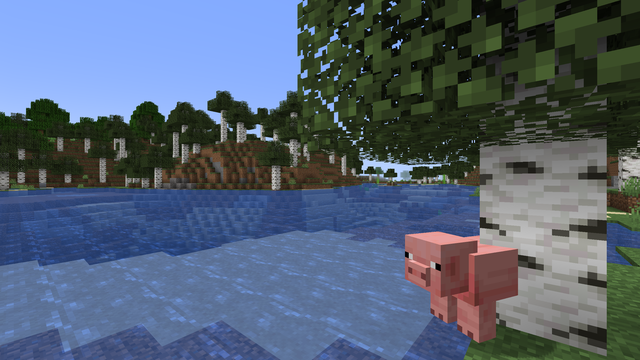cochons: (427, 230, 529, 354)
